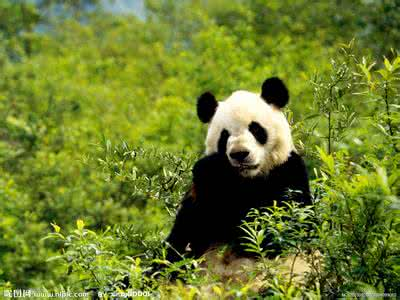panda: (164, 77, 315, 260)
